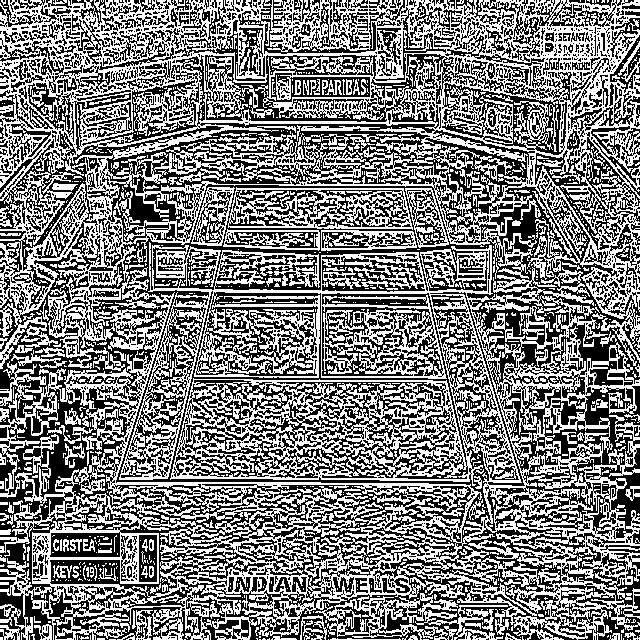left side: (403, 186, 523, 484), (116, 185, 235, 480)
player: (449, 427, 498, 540), (288, 122, 306, 184)
